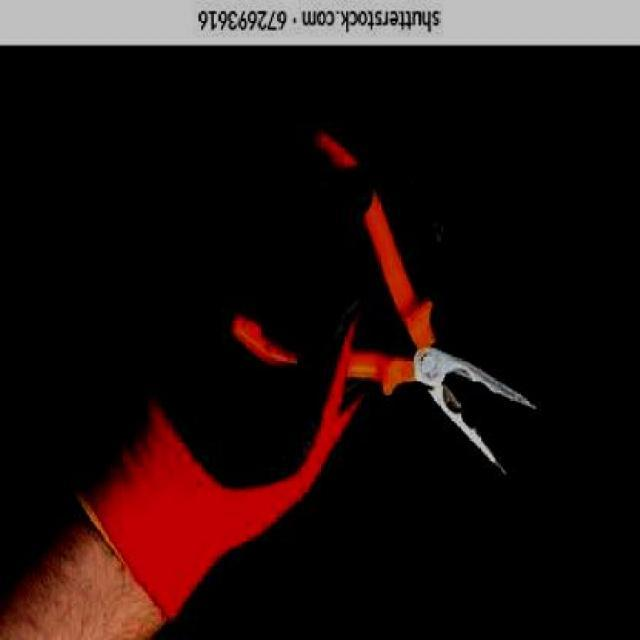pliers: (400, 308, 552, 482)
